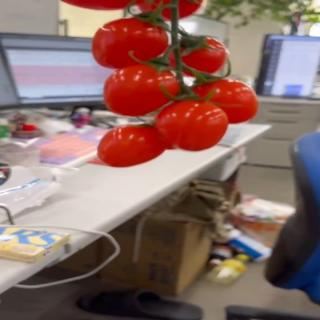tomato: (103, 59, 182, 116), (92, 13, 173, 68), (153, 98, 228, 152), (187, 77, 260, 126), (98, 124, 171, 169), (177, 34, 229, 76), (56, 0, 144, 9), (168, 0, 205, 20)
